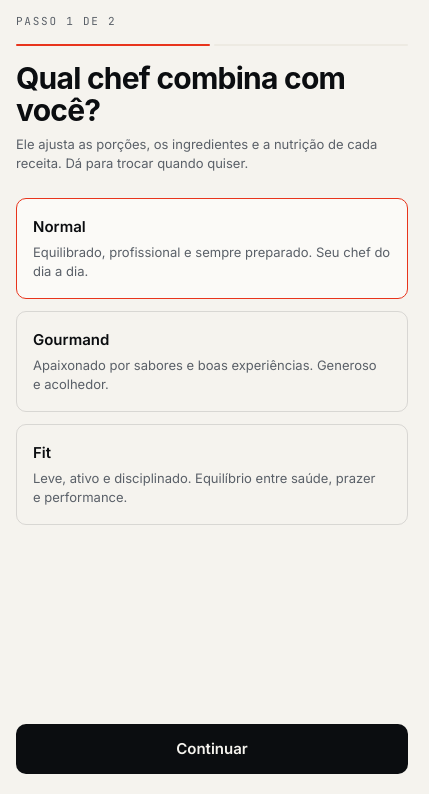
OnboardingScreen › surfaces a failed save instead of stranding the user on a dead button
Click the button "Continuar": coordinates (212, 749) [16,724,408,774]
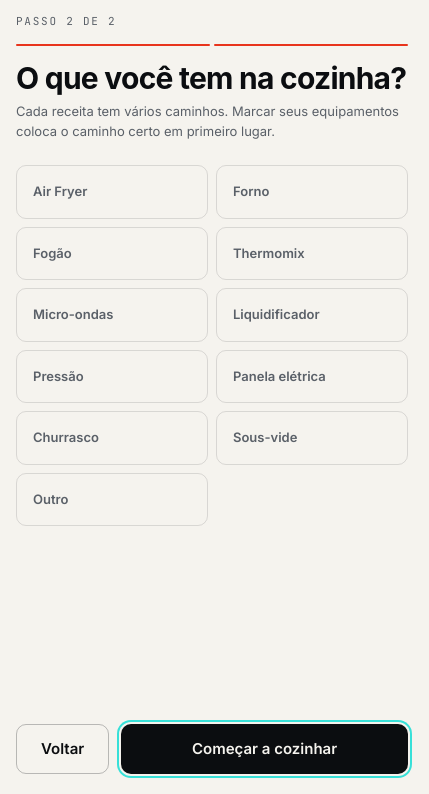
Click the button "Começar a cozinhar": coordinates (265, 749) [121,724,408,774]
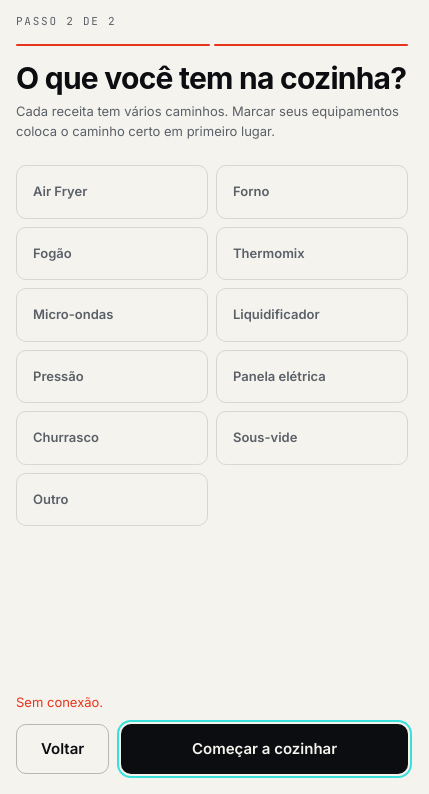
Check: the text "Sem conexão." is shown, box [16,694,103,710]
